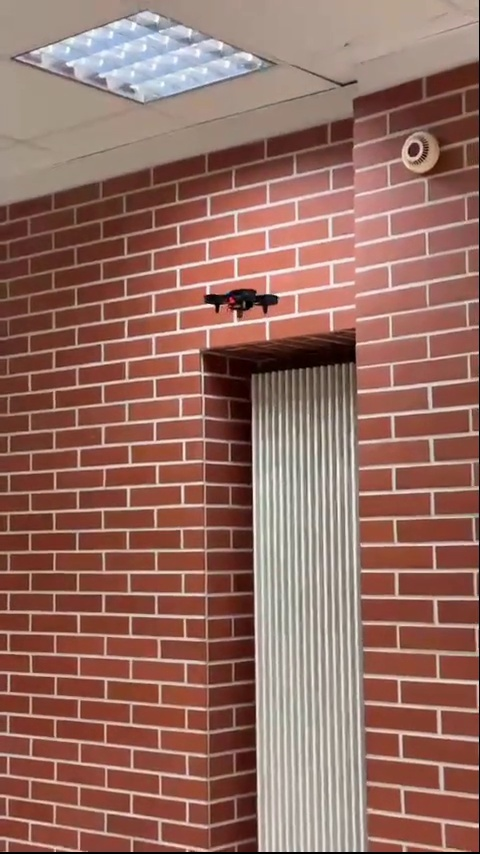drone: (196, 283, 280, 321)
